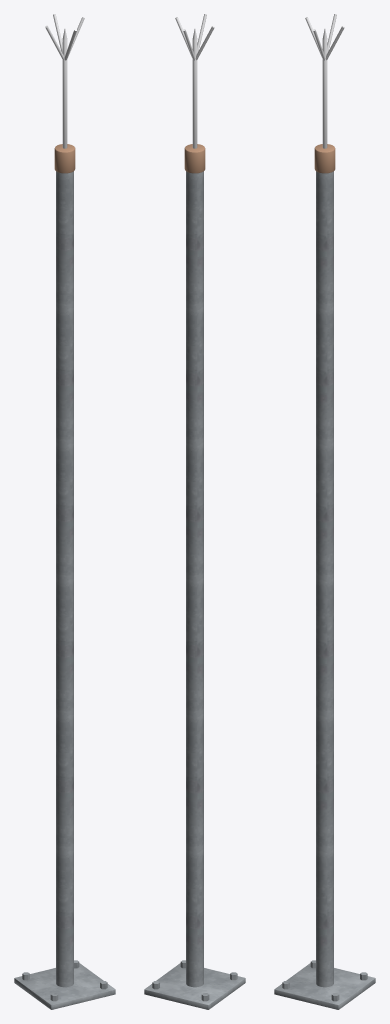
Rendered from ELE-SPD-001_lod1.glb.
3 renders of one model, left to right at view 1: azimuth 30°, elevation 25°; view 2: azimuth 150°, elevation 25°; view 3: azimuth 330°, elevation 25°, orthographic.
Visible parts, largest first — view 1: ELE-SPD-001_mastro, ELE-SPD-001_flange, ELE-SPD-001_haste, ELE-SPD-001_isolador; view 2: ELE-SPD-001_mastro, ELE-SPD-001_flange, ELE-SPD-001_haste, ELE-SPD-001_isolador; view 3: ELE-SPD-001_mastro, ELE-SPD-001_flange, ELE-SPD-001_haste, ELE-SPD-001_isolador.
Part boxes in pixels (x1,y1,x2,y2): ELE-SPD-001_mastro: (56, 171, 73, 987); ELE-SPD-001_flange: (14, 963, 115, 1009); ELE-SPD-001_haste: (62, 40, 67, 148); ELE-SPD-001_isolador: (54, 144, 75, 173); ELE-SPD-001_mastro: (186, 171, 203, 987); ELE-SPD-001_flange: (144, 963, 245, 1009); ELE-SPD-001_haste: (192, 40, 197, 148); ELE-SPD-001_isolador: (184, 144, 205, 173); ELE-SPD-001_mastro: (316, 171, 333, 987); ELE-SPD-001_flange: (274, 963, 375, 1009); ELE-SPD-001_haste: (322, 40, 327, 148); ELE-SPD-001_isolador: (314, 144, 335, 173).
Size of the model in its own units: 0.25 by 3.57 by 0.25.
3 materials, 1 textured.
